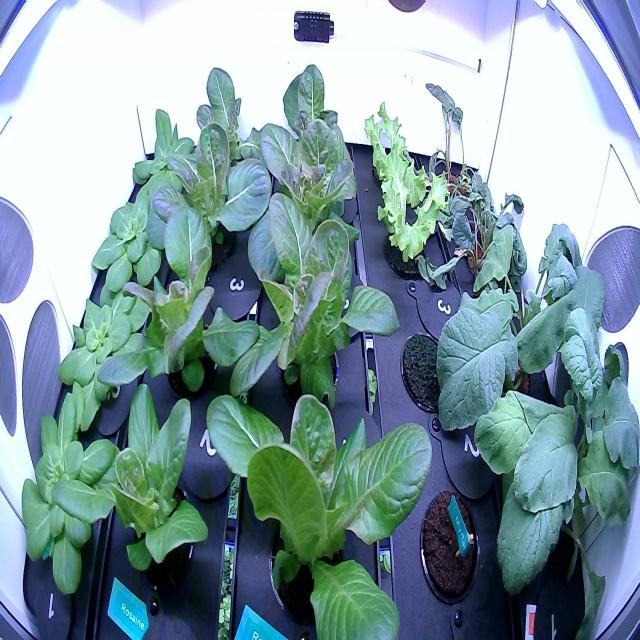young: (194, 348, 441, 639), (208, 172, 414, 441), (90, 195, 270, 422), (80, 349, 219, 586), (7, 378, 127, 606), (141, 119, 276, 296), (48, 252, 157, 446), (256, 108, 369, 266), (173, 56, 278, 205), (255, 38, 357, 183), (85, 172, 174, 303), (414, 476, 486, 617), (128, 94, 202, 208), (392, 324, 466, 438)
